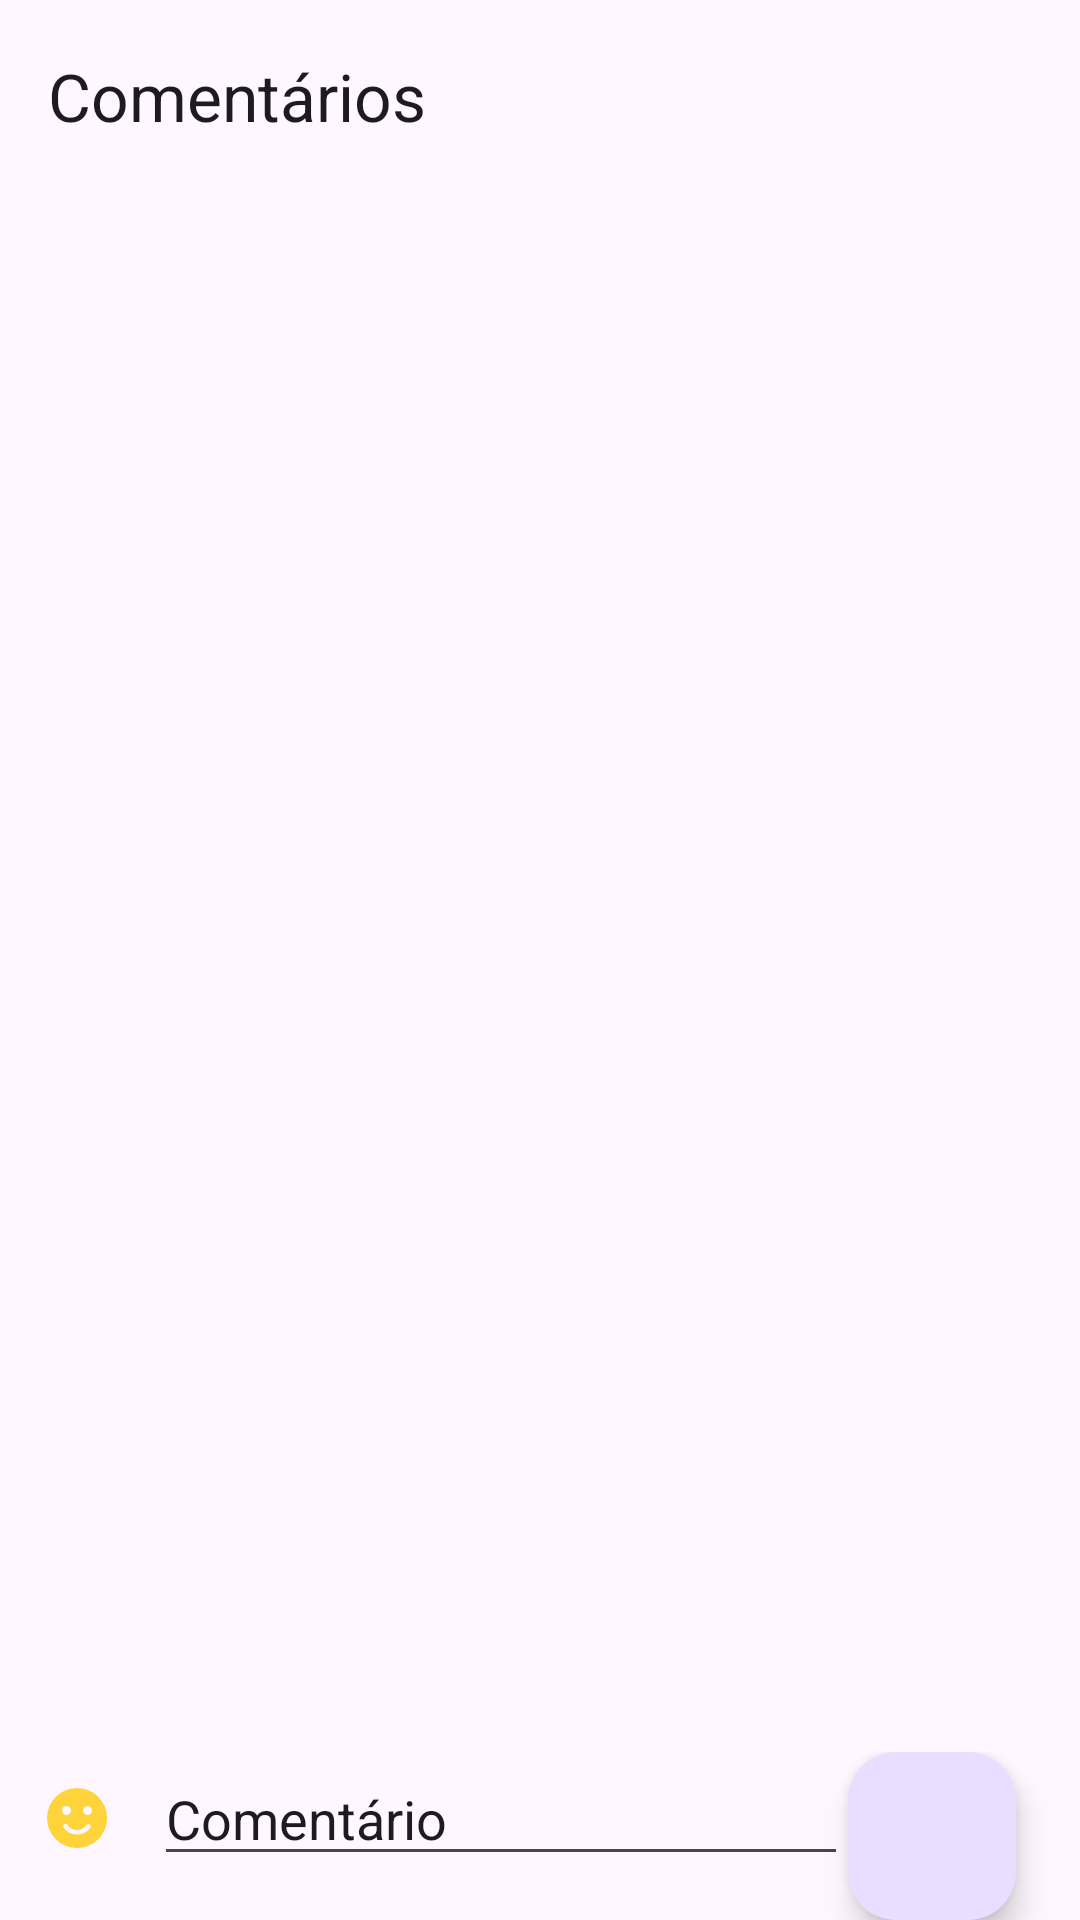

Icon bounding boxes for this 1080×1920 phone screenshot, format (x1, y1, x2, y2):
sentiment satisfied: (47, 1788, 107, 1848)
